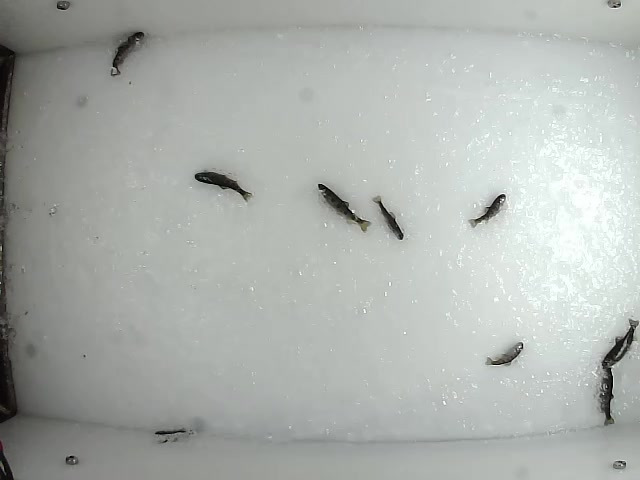fish: (314, 180, 373, 234), (599, 315, 640, 368), (107, 29, 148, 76), (194, 171, 254, 203), (371, 192, 404, 240), (468, 191, 508, 230), (597, 364, 618, 426), (483, 339, 524, 369)
